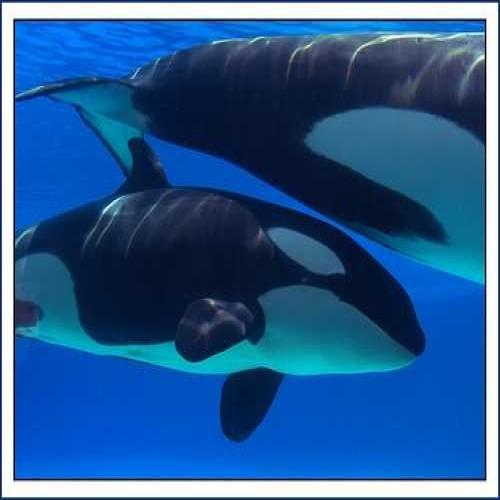killer_whale-endangered: (51, 29, 500, 298), (8, 146, 430, 404)
